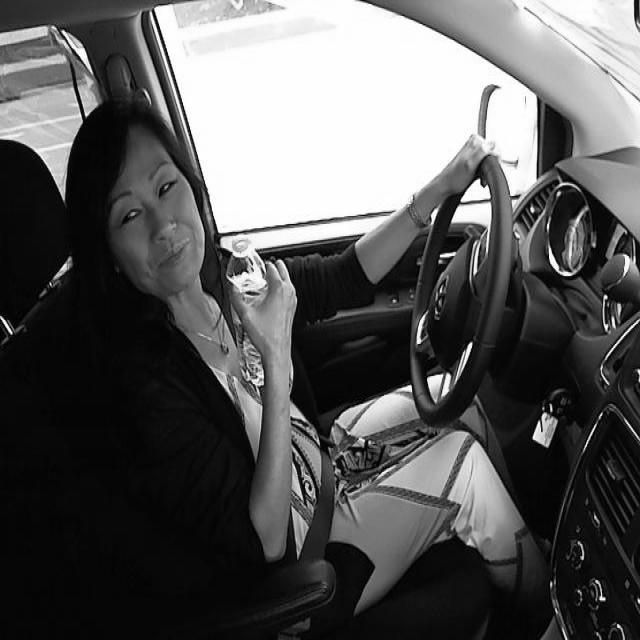Drinking: (226, 230, 294, 394)
